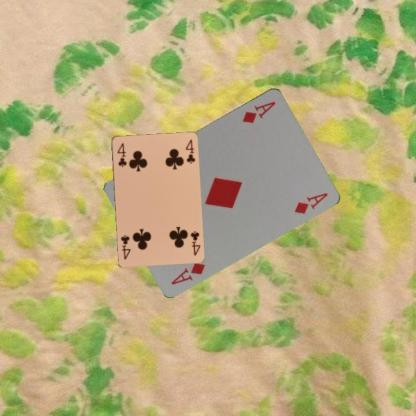4c: (114, 140, 128, 168), (188, 228, 201, 257)
Ad: (169, 259, 206, 286), (240, 98, 277, 124)
